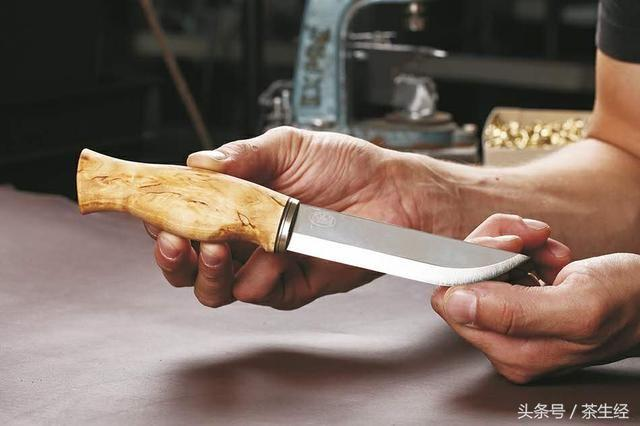knife: (24, 95, 557, 363)
